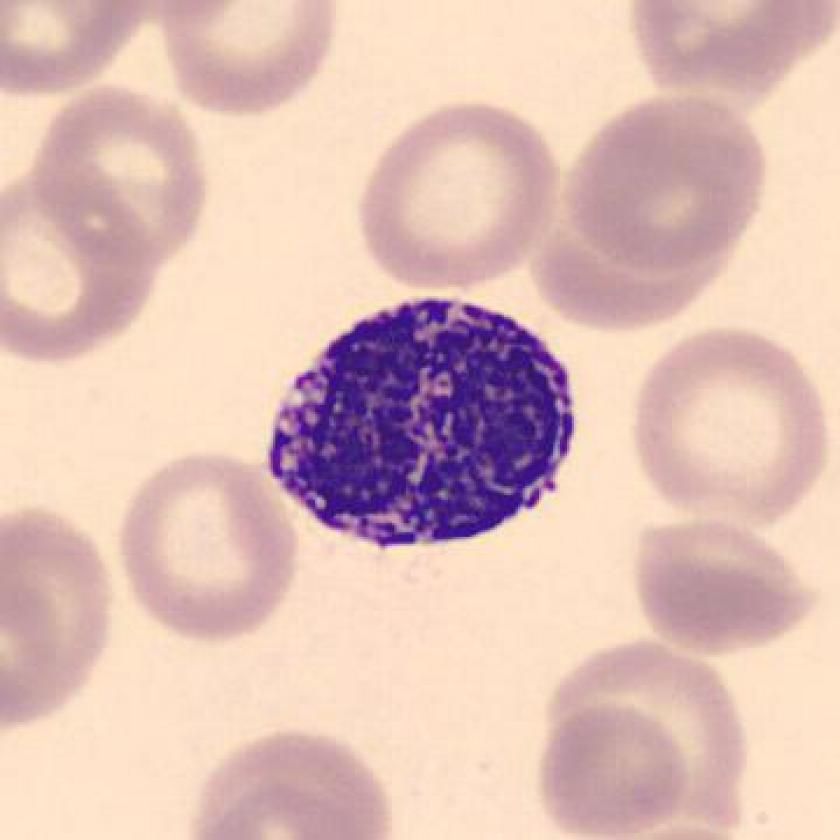basophil: (260, 295, 589, 549)
